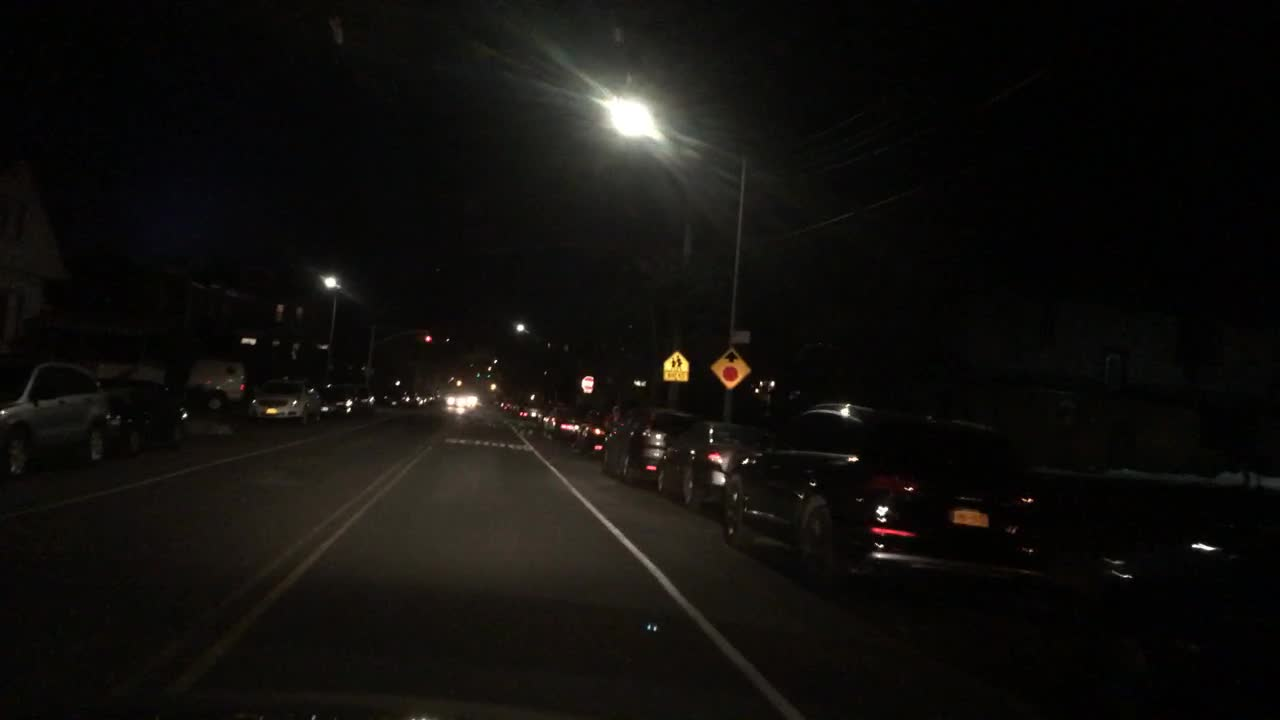car: (728, 397, 1074, 626), (0, 356, 113, 472), (649, 417, 742, 510), (601, 405, 692, 495), (102, 376, 187, 456), (151, 386, 240, 438), (246, 382, 320, 425), (542, 395, 586, 447), (189, 363, 245, 400), (579, 403, 608, 454), (517, 395, 543, 429), (327, 392, 355, 413), (383, 388, 409, 407), (355, 391, 377, 407), (497, 395, 517, 411), (411, 391, 425, 405), (427, 391, 439, 403)
traffic sign: (711, 347, 751, 386), (662, 385, 691, 426)
